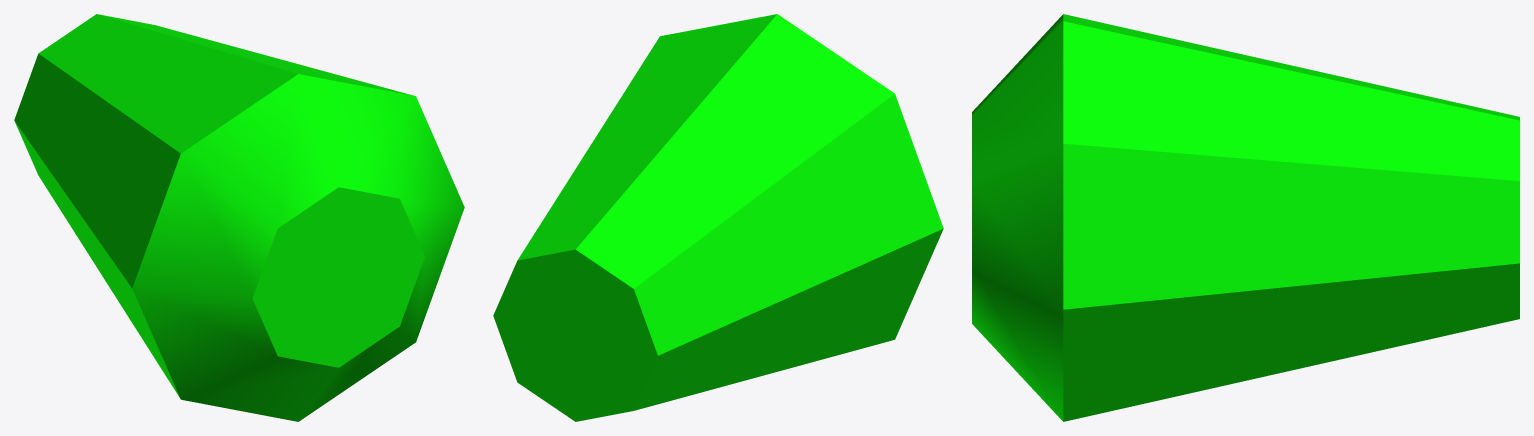
File: SM_Lamp_01_04_Collider.fbx
The picture shows the model from 3 angles, left to right: view 1: azimuth 30°, elevation 25°; view 2: azimuth 150°, elevation 25°; view 3: azimuth 270°, elevation 25°; orthographic projection. The views are drawn at different scales.
Visible parts, largest first — view 1: SM_Lamp_01_04_Collider; view 2: SM_Lamp_01_04_Collider; view 3: SM_Lamp_01_04_Collider.
Boxes of the visible parts, box(x1,y1,x2,y2) form: SM_Lamp_01_04_Collider: box(14, 14, 464, 421); SM_Lamp_01_04_Collider: box(493, 14, 943, 421); SM_Lamp_01_04_Collider: box(972, 14, 1519, 421).
Size of the model in its own units: 16.34 by 16.34 by 20.62.
